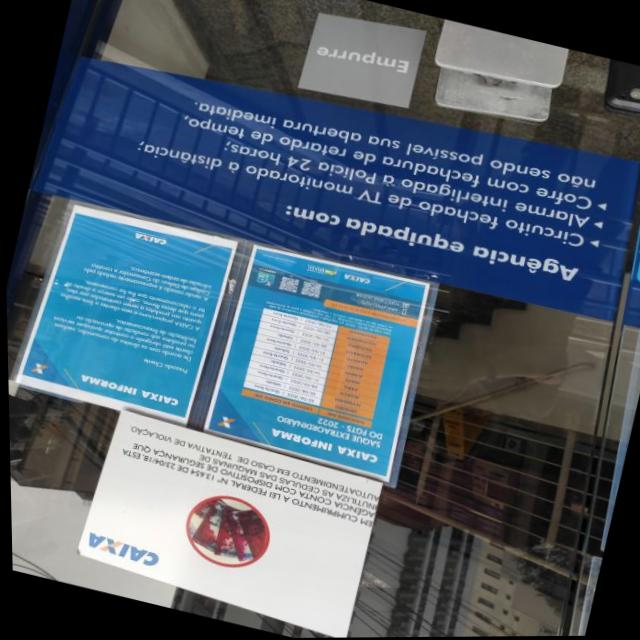qrcode: (298, 280, 320, 298), (277, 276, 298, 293)
